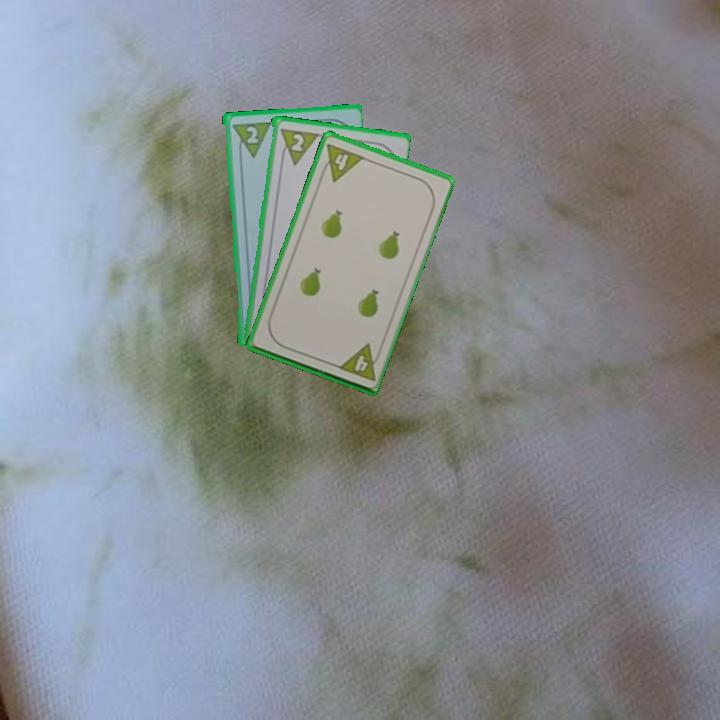2p: (287, 130, 307, 154), (242, 122, 260, 146)
4p: (316, 139, 367, 185), (334, 340, 384, 384)
